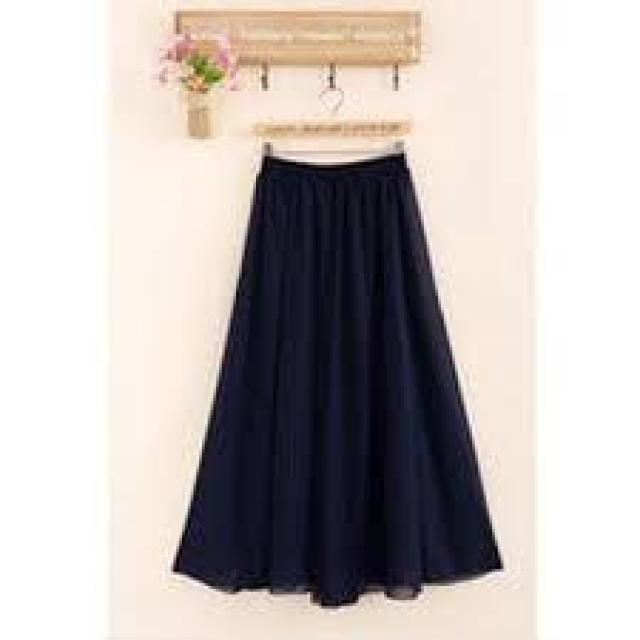skirt: (171, 145, 509, 600)
